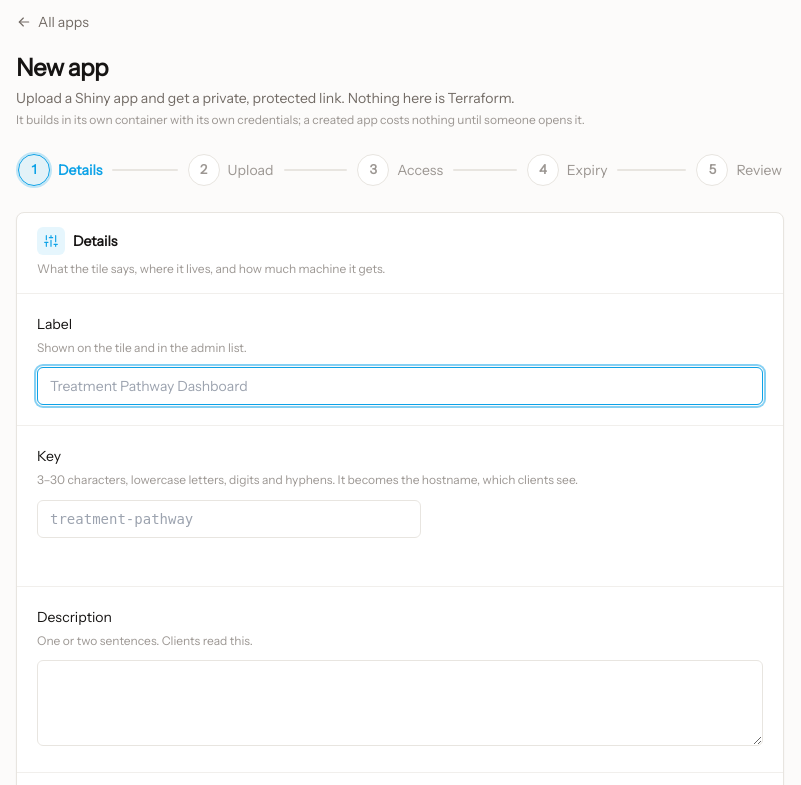
it: NewAppWizard — key availability › drops a stale verdict the moment the key changes again
Type "atlas" into the field named "Key" at (229, 518), box [37,500,421,538]
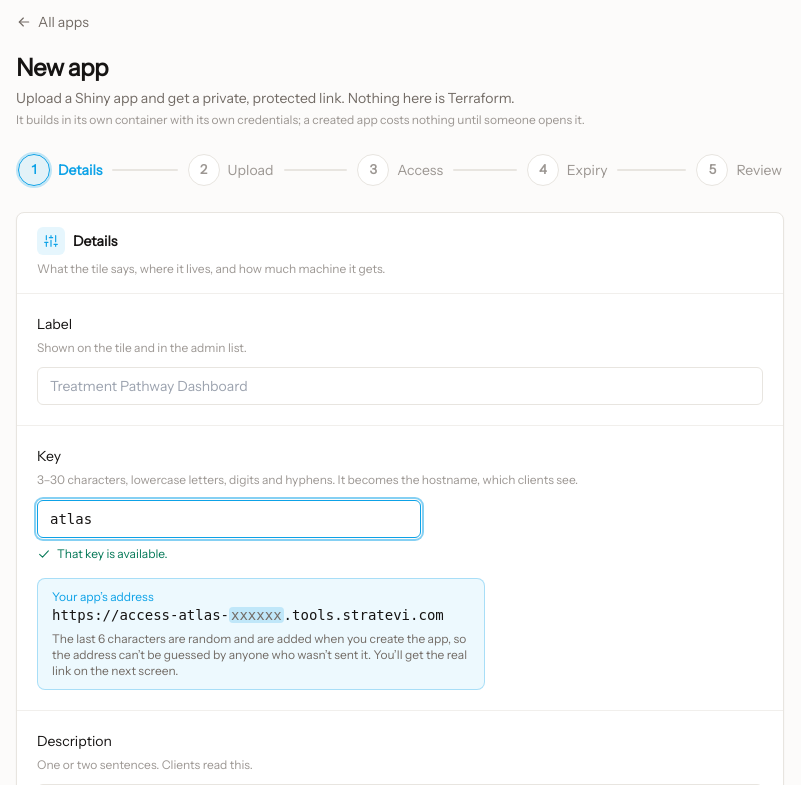
Expected: the text "That key is available." is shown, [37,546,168,560]
Type "-two" into the field named "Key" at (229, 518), box [37,500,421,538]
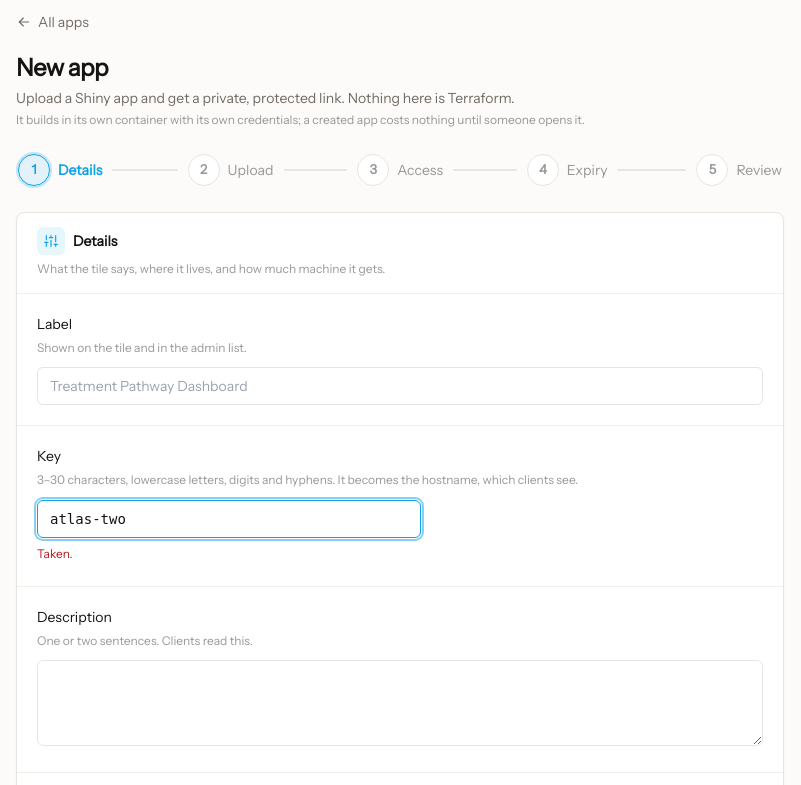
Expected: the text "That key is available." is gone
Expected: the text "Taken." is shown, [37,546,73,560]
